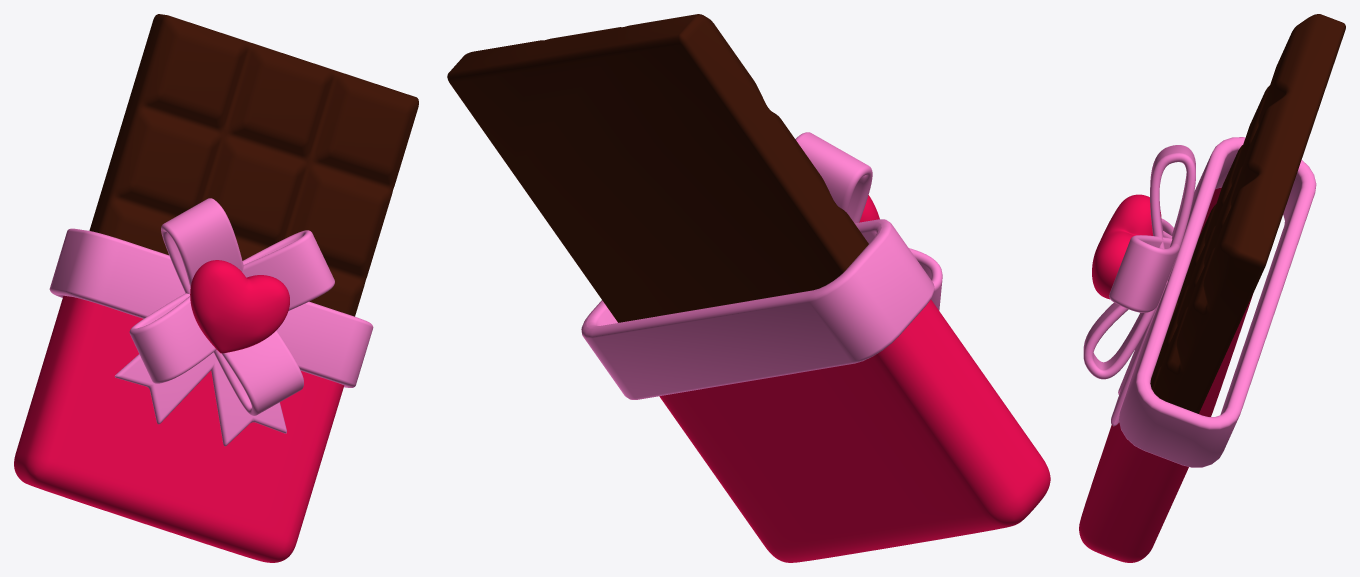
File: Si cu la bar.glb
3 renders of one model, left to right at view 1: azimuth 30°, elevation 25°; view 2: azimuth 150°, elevation 25°; view 3: azimuth 270°, elevation 25°, orthographic. The views are drawn at different scales.
Parts seen in each view (by area): view 1: Plane.034, Plane.035, Plane.026, NurbsPath.012, NurbsPath.011, Vert.006, Plane.028; view 2: Plane.034, Plane.035, Plane.026, NurbsPath.012; view 3: Plane.034, Plane.026, Plane.035, NurbsPath.012, NurbsPath.011, Vert.006, Plane.028.
Part boxes in pixels (x1=…): Plane.034: x1=89, y1=14, x2=418, y2=316; Plane.035: x1=14, y1=295, x2=344, y2=562; Plane.026: x1=49, y1=228, x2=373, y2=387; NurbsPath.012: x1=161, y1=198, x2=303, y2=415; NurbsPath.011: x1=129, y1=230, x2=334, y2=383; Vert.006: x1=190, y1=260, x2=289, y2=353; Plane.028: x1=114, y1=352, x2=286, y2=446; Plane.034: x1=447, y1=14, x2=868, y2=322; Plane.035: x1=659, y1=299, x2=1050, y2=562; Plane.026: x1=581, y1=219, x2=934, y2=399; NurbsPath.012: x1=795, y1=132, x2=872, y2=223; Plane.034: x1=1150, y1=14, x2=1345, y2=413; Plane.026: x1=1119, y1=137, x2=1316, y2=467; Plane.035: x1=1079, y1=187, x2=1252, y2=562; NurbsPath.012: x1=1083, y1=145, x2=1195, y2=379; NurbsPath.011: x1=1109, y1=218, x2=1179, y2=312; Vert.006: x1=1092, y1=194, x2=1161, y2=299; Plane.028: x1=1111, y1=280, x2=1167, y2=426.
Size of the model in its own units: 6.33 by 6.93 by 3.11.
